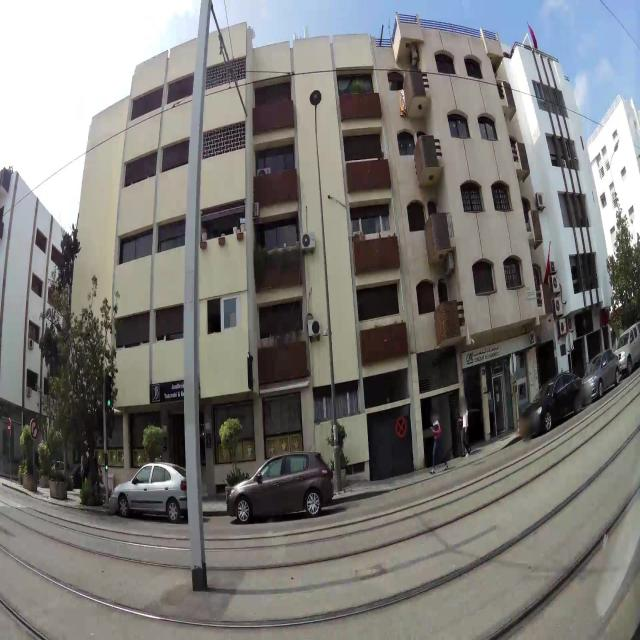car: (226, 448, 335, 524), (109, 460, 189, 524), (521, 370, 595, 438), (582, 347, 622, 400), (611, 319, 640, 377)
